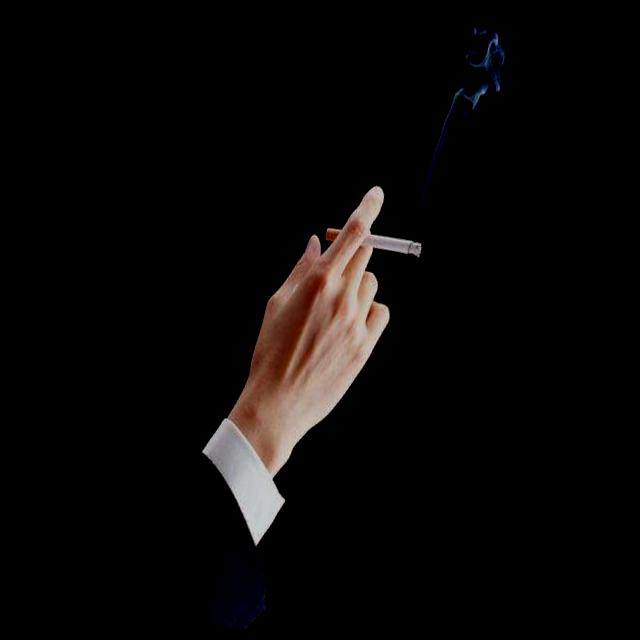smoke: (370, 226, 430, 264)
